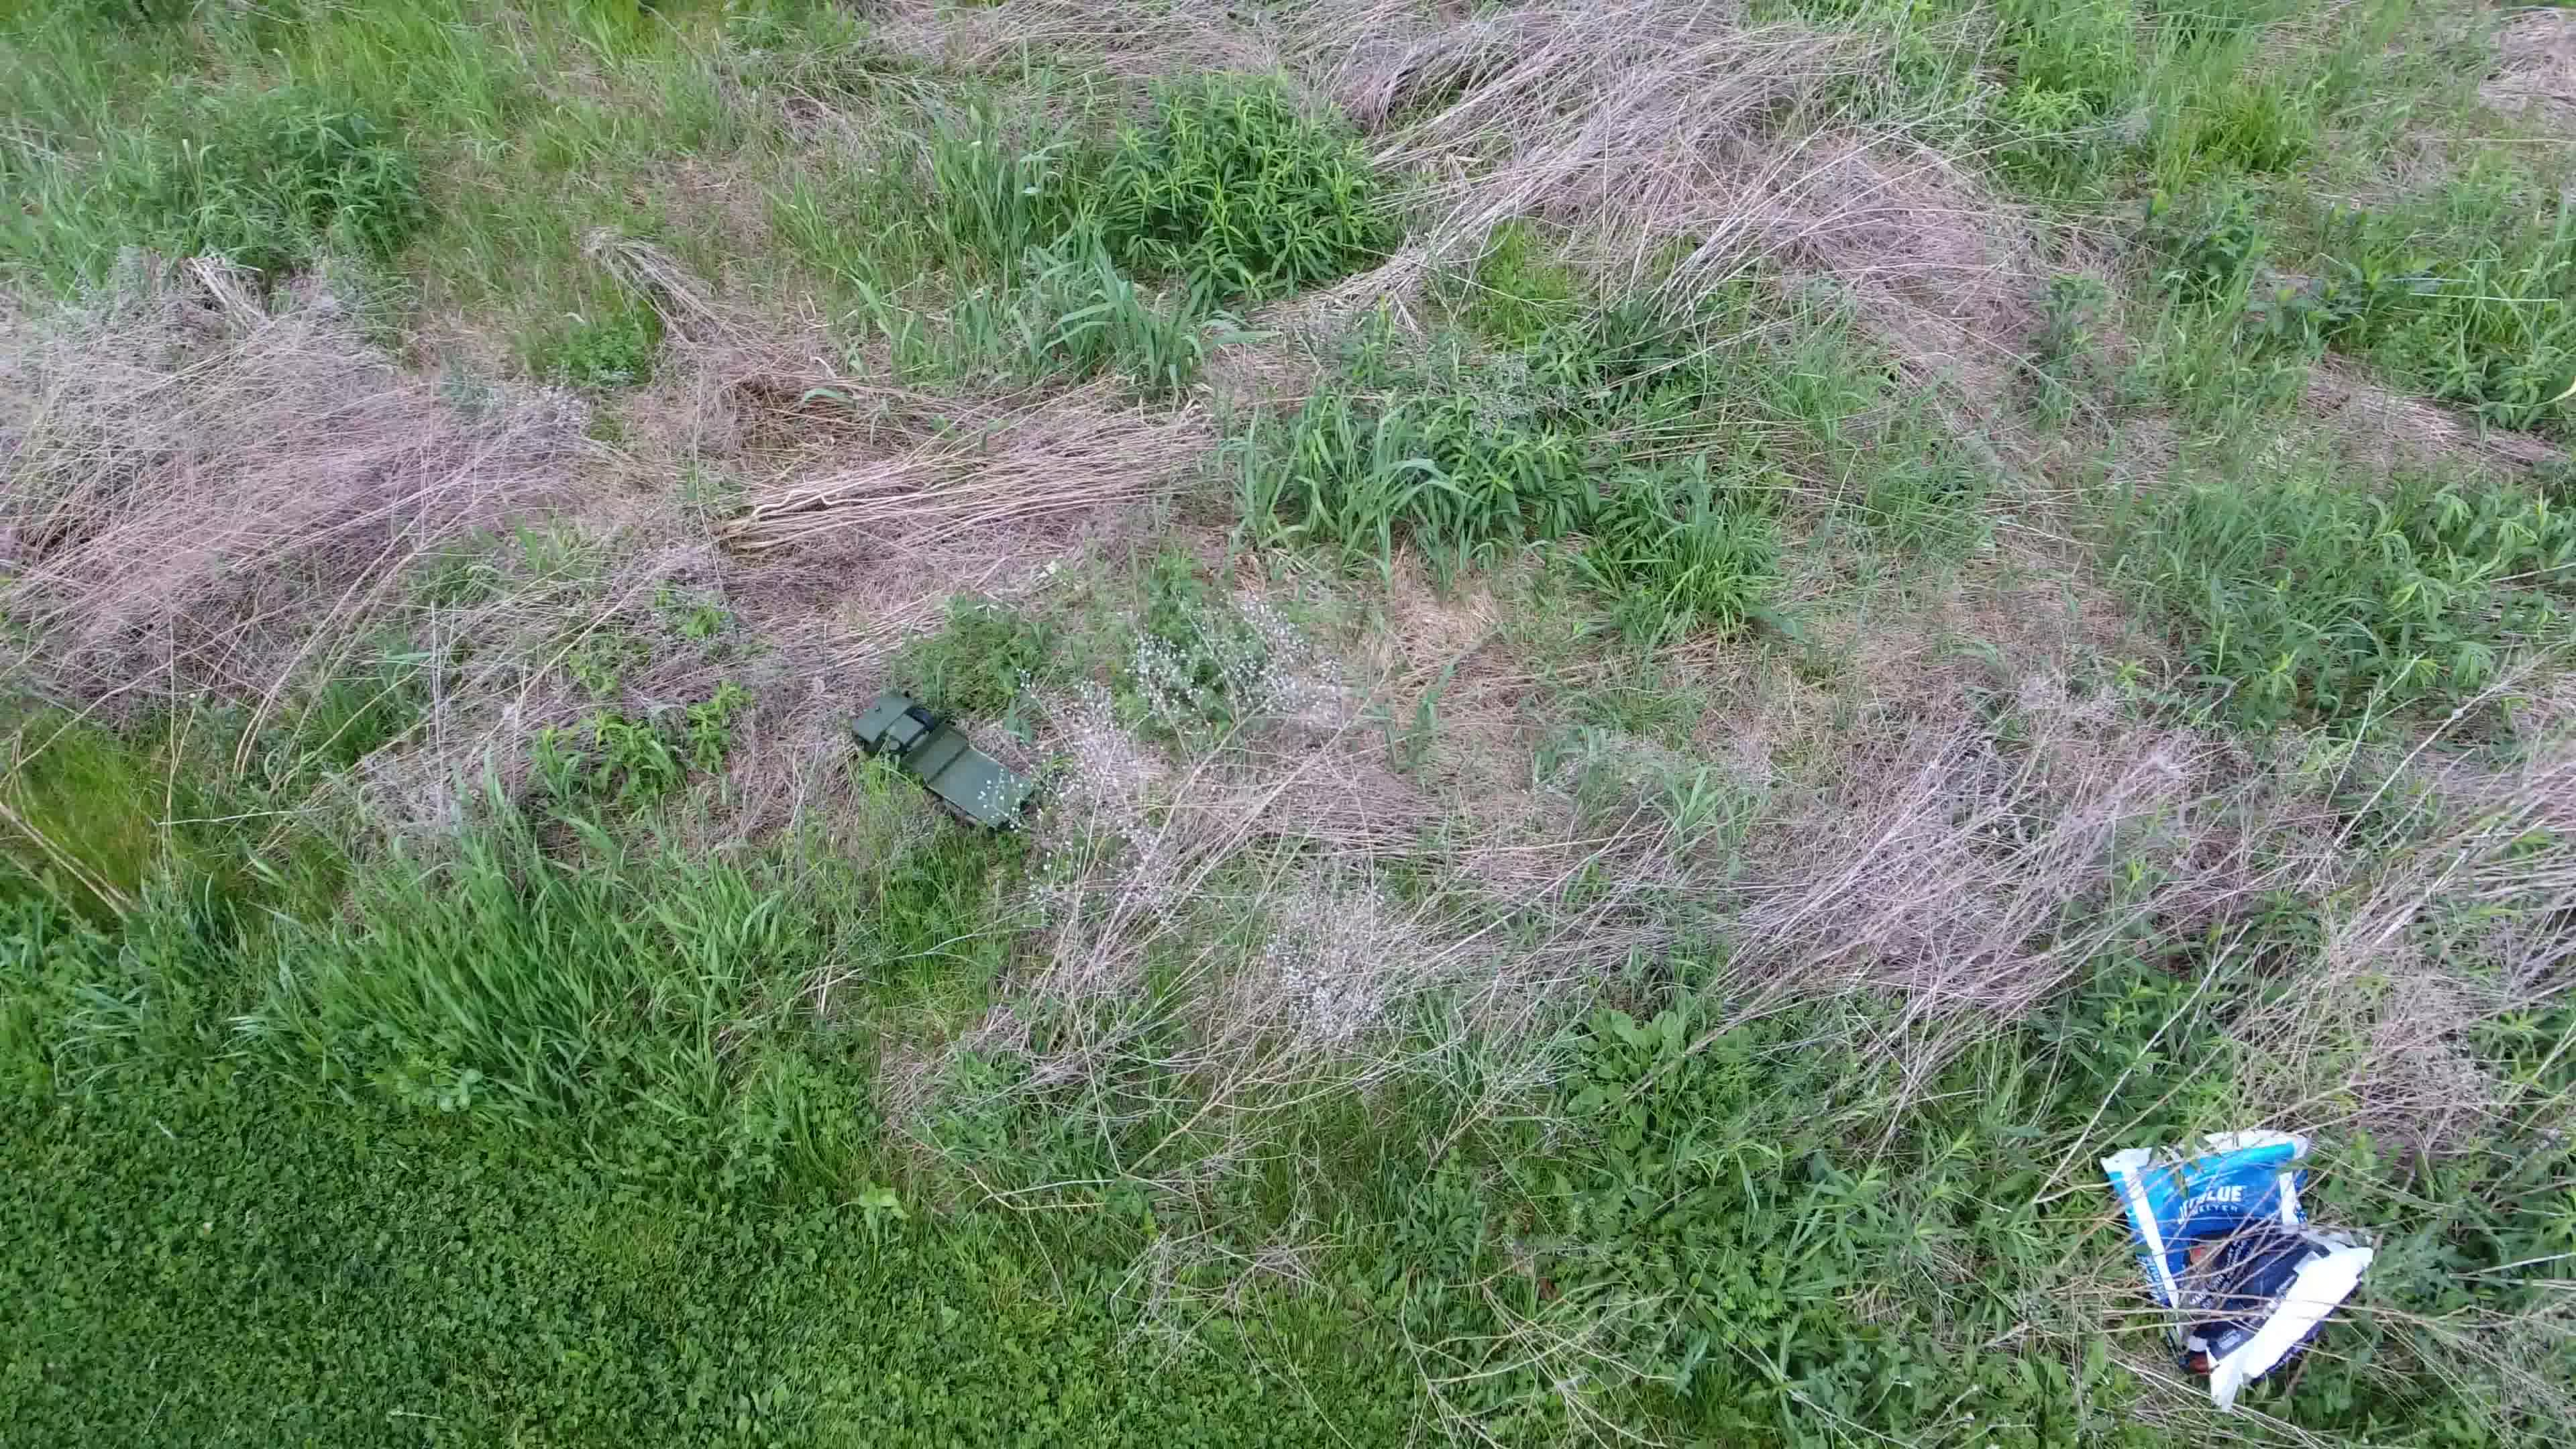transporter9: (846, 679, 1047, 846)
